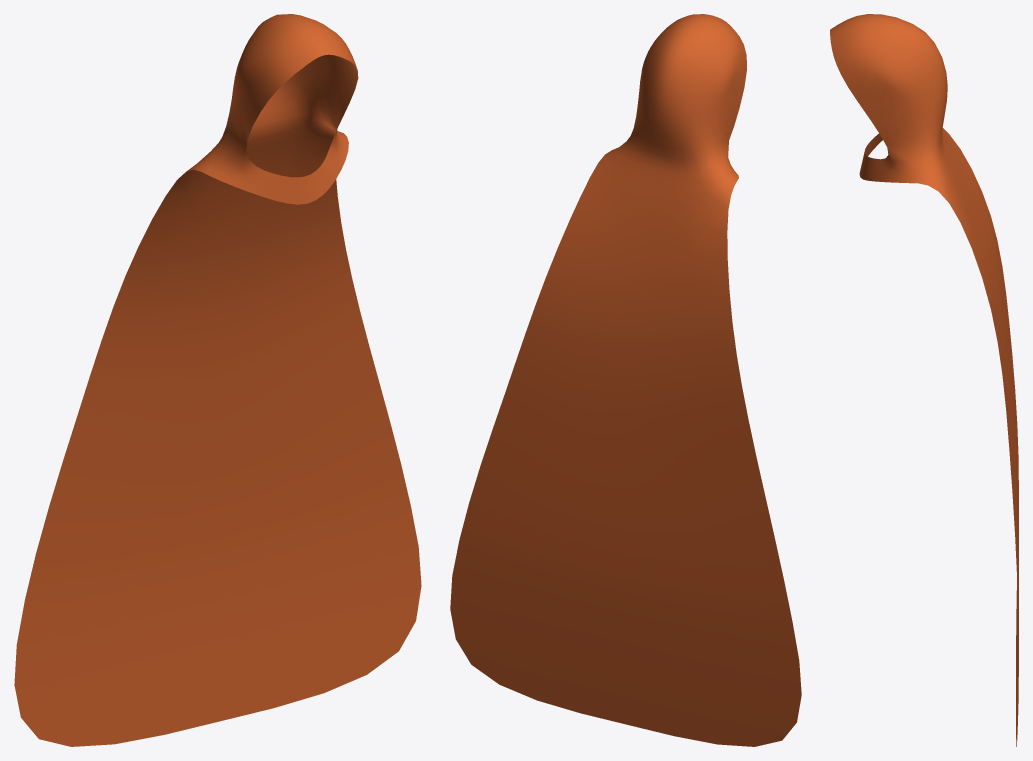
The model's file is coat.fbx.
3 renders of one model, left to right at view 1: azimuth 30°, elevation 25°; view 2: azimuth 150°, elevation 25°; view 3: azimuth 270°, elevation 25°, orthographic. The views are drawn at different scales.
Visible parts, largest first — view 1: Plane; view 2: Plane; view 3: Plane.
Part boxes in pixels (left/top/right/bottom): Plane: left=14, top=14, right=421, bottom=746; Plane: left=450, top=14, right=801, bottom=746; Plane: left=830, top=14, right=1018, bottom=746.
Size of the model in its own units: 80.61 by 144 by 36.43.
